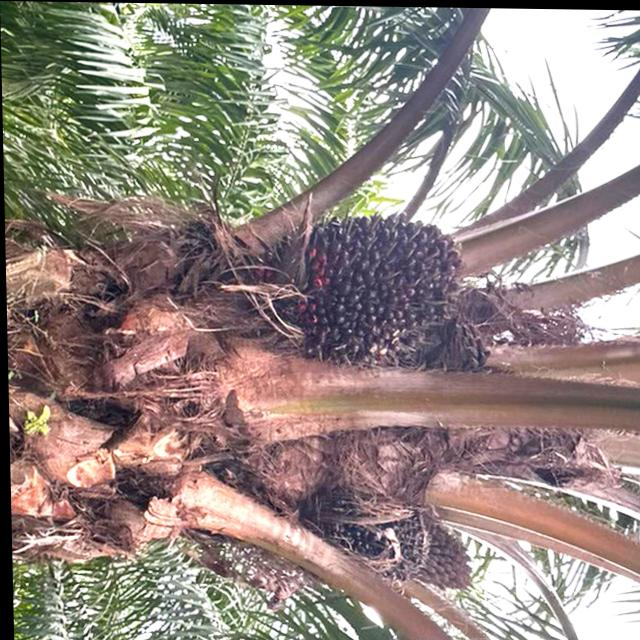ripe: (288, 206, 472, 372)
